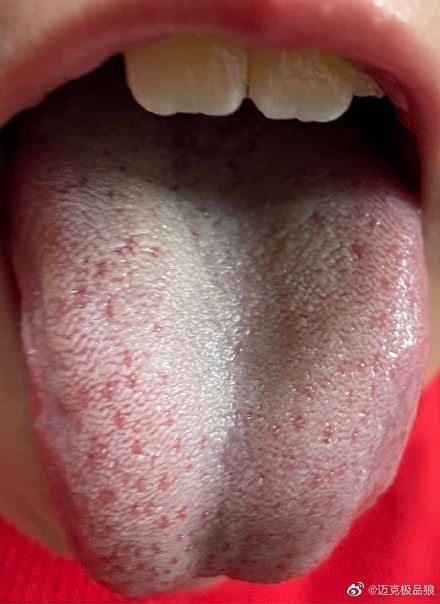baitaishe: (12, 95, 428, 596)
hongdianshe: (93, 258, 109, 281), (319, 423, 334, 445), (176, 501, 189, 523), (122, 349, 136, 369), (218, 540, 232, 555), (166, 553, 180, 568)
